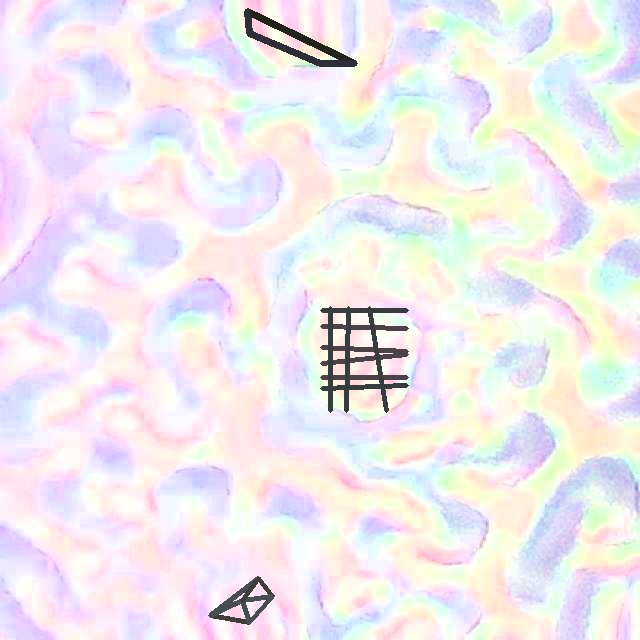close: (320, 306, 407, 412), (209, 577, 274, 624)
open: (246, 8, 357, 66)
